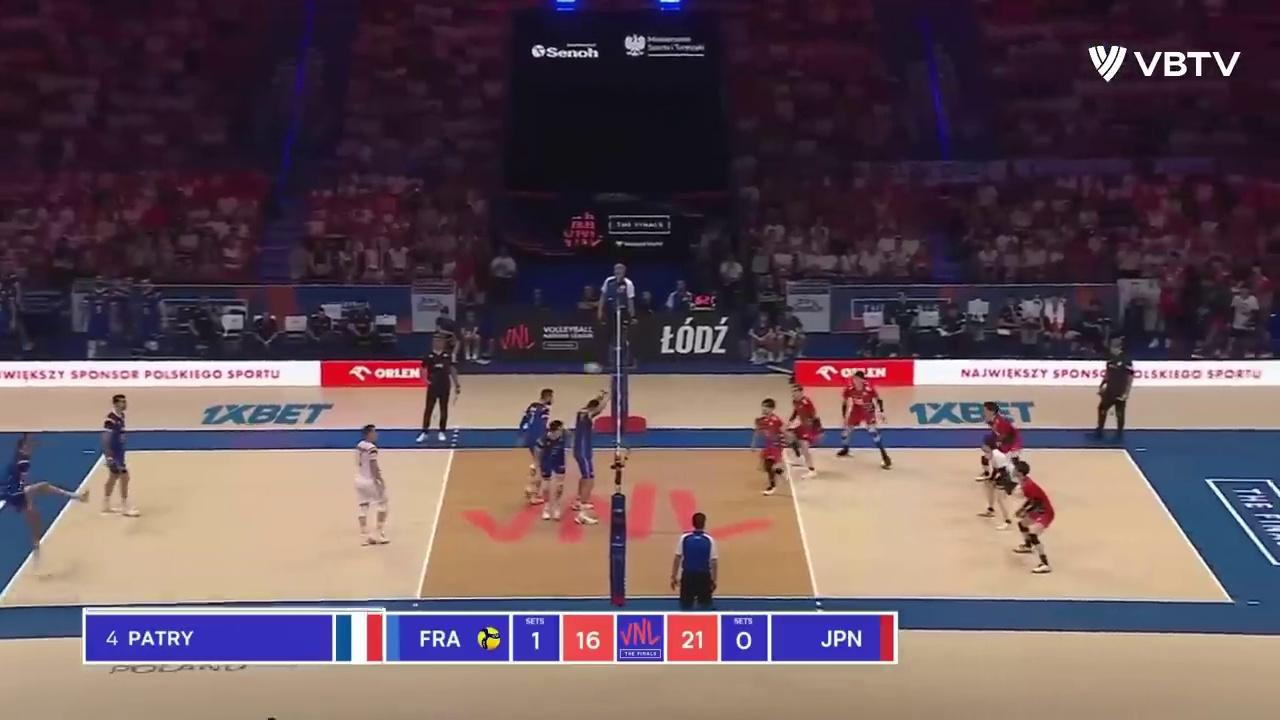ball: (583, 363, 605, 373)
